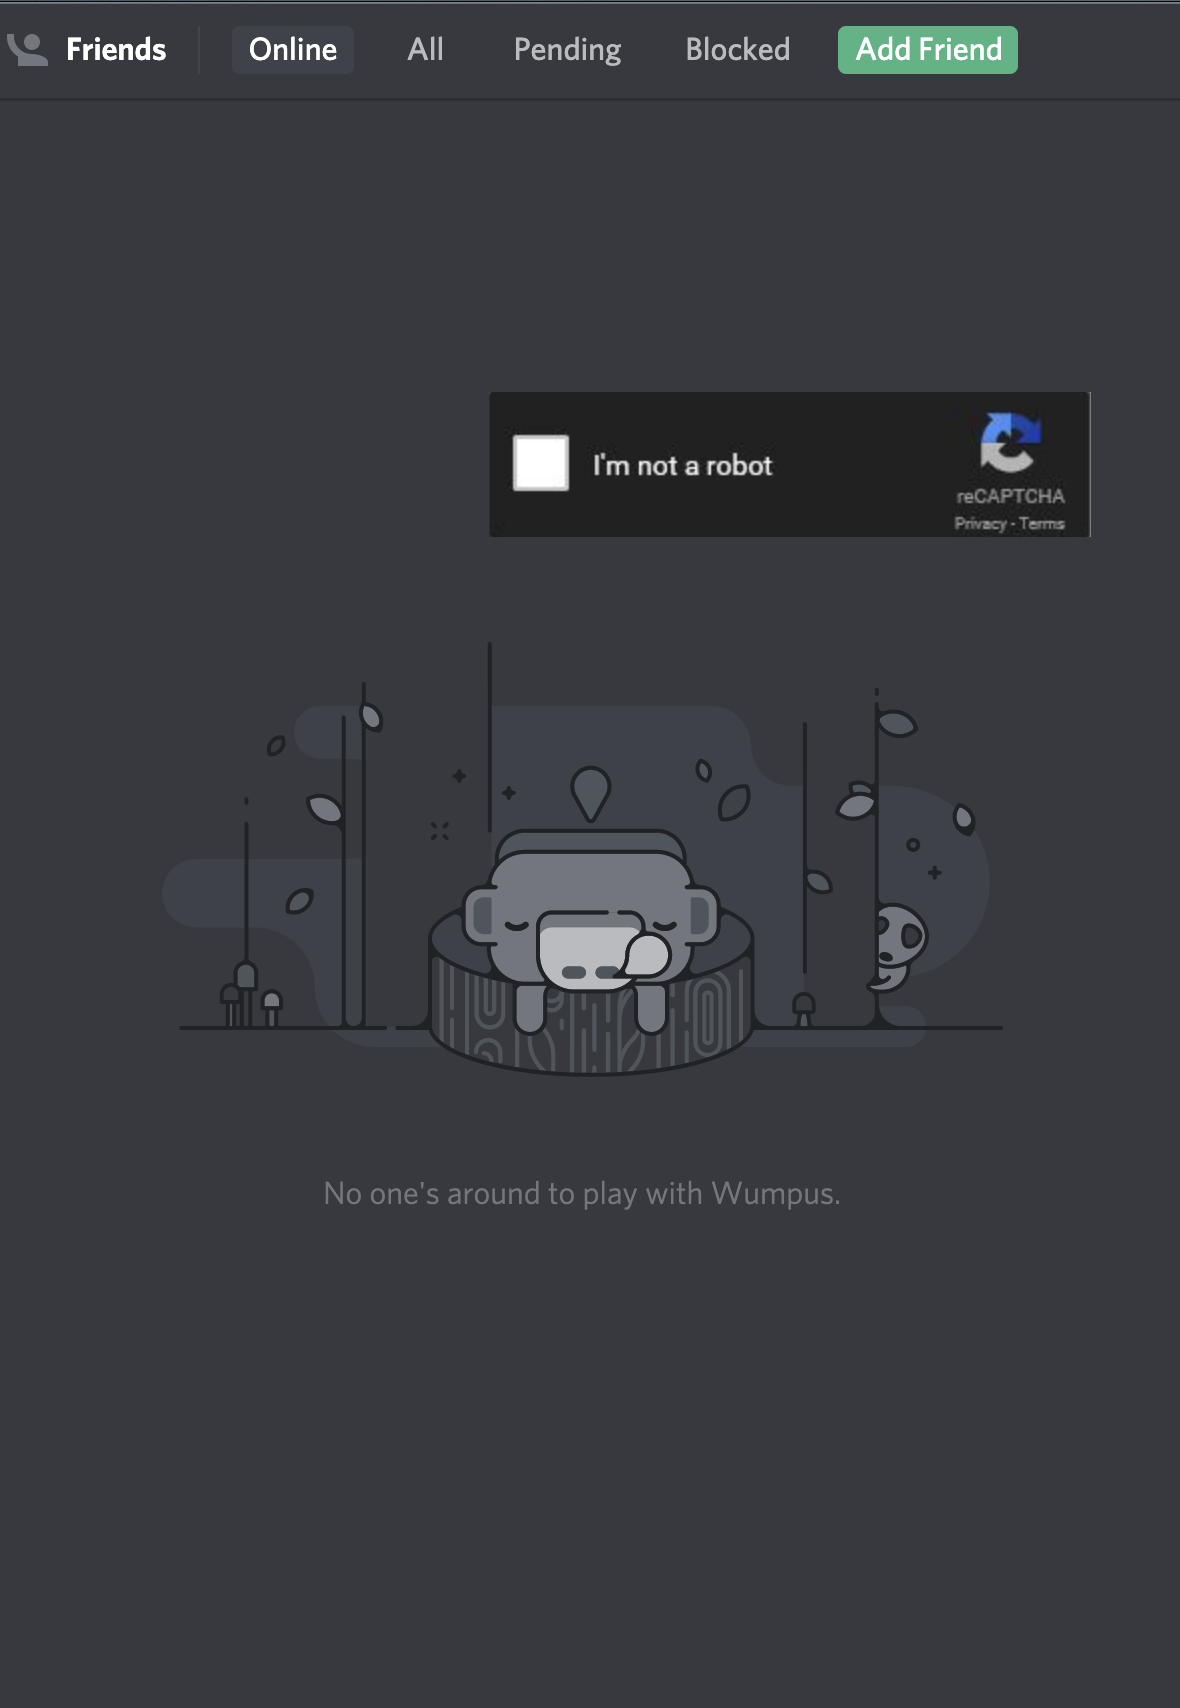captcha: (484, 382, 1103, 546)
